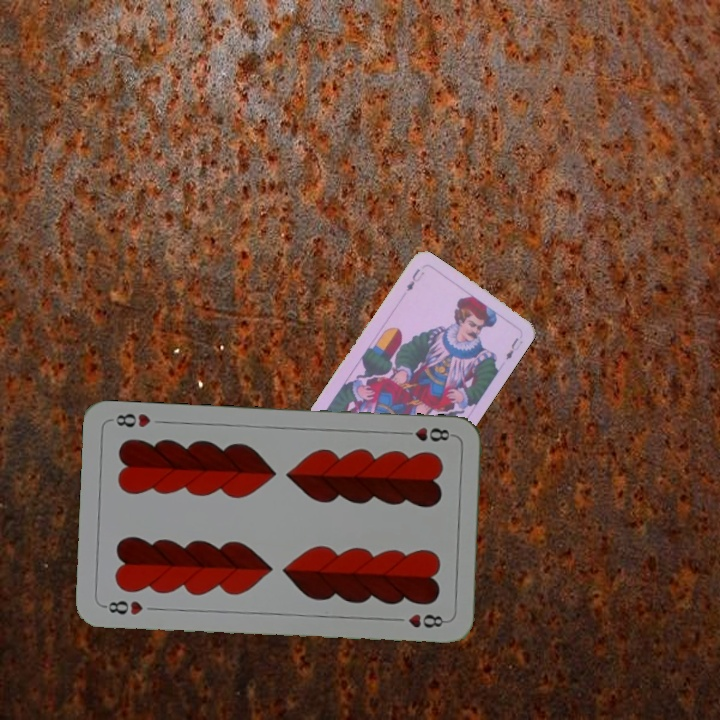EU: (402, 264, 427, 294)
H8: (397, 423, 456, 444), (100, 596, 146, 618)
